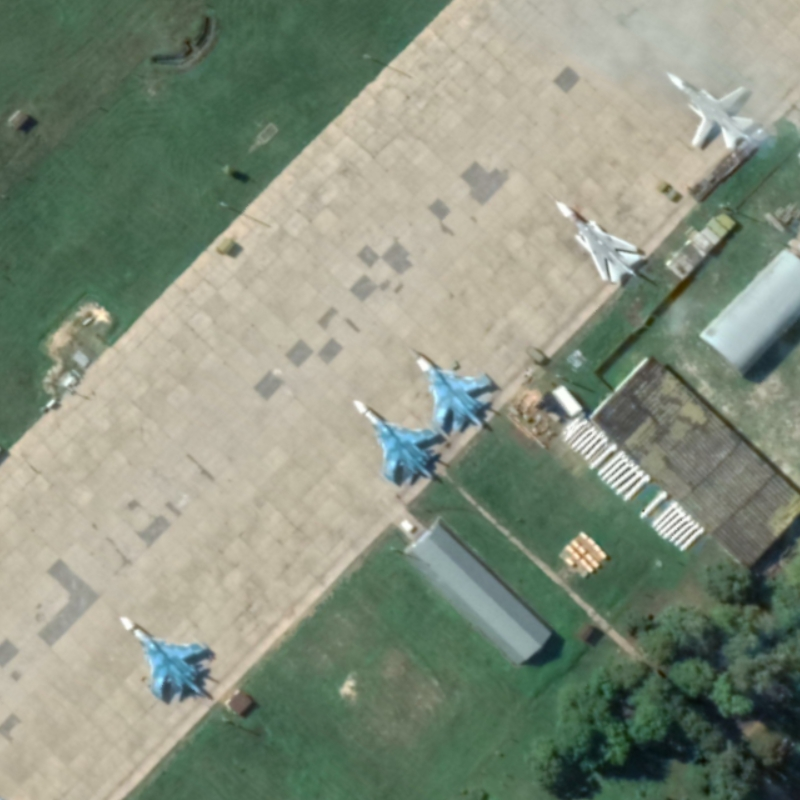A19: (350, 398, 442, 490), (117, 614, 210, 704), (409, 347, 498, 437)
A20: (553, 198, 643, 285), (664, 70, 756, 151)
